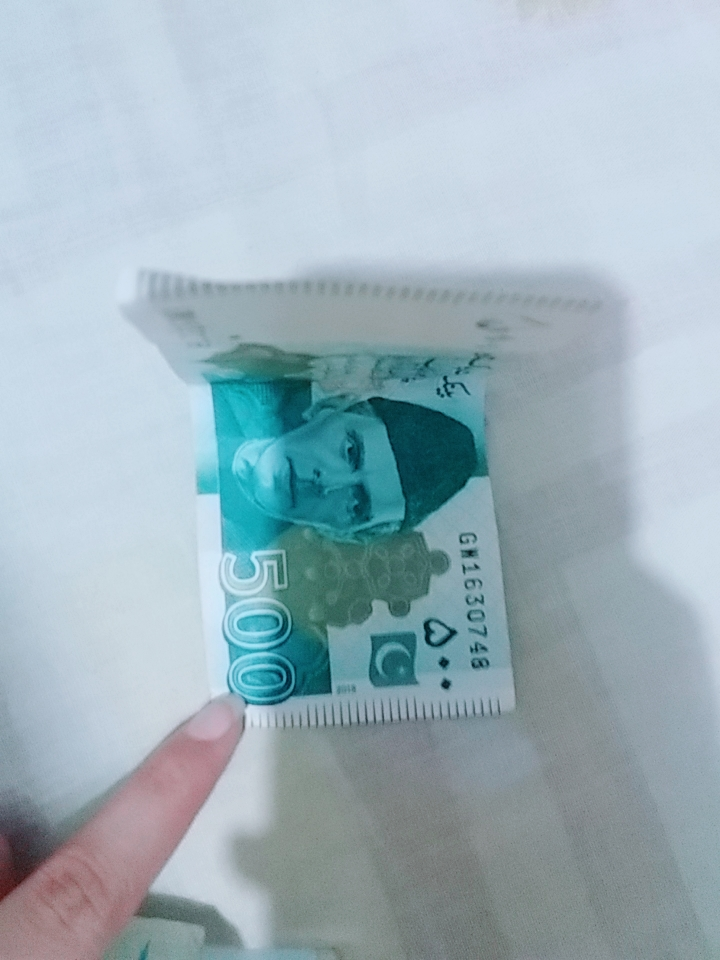500 rupee: (107, 261, 536, 746)
